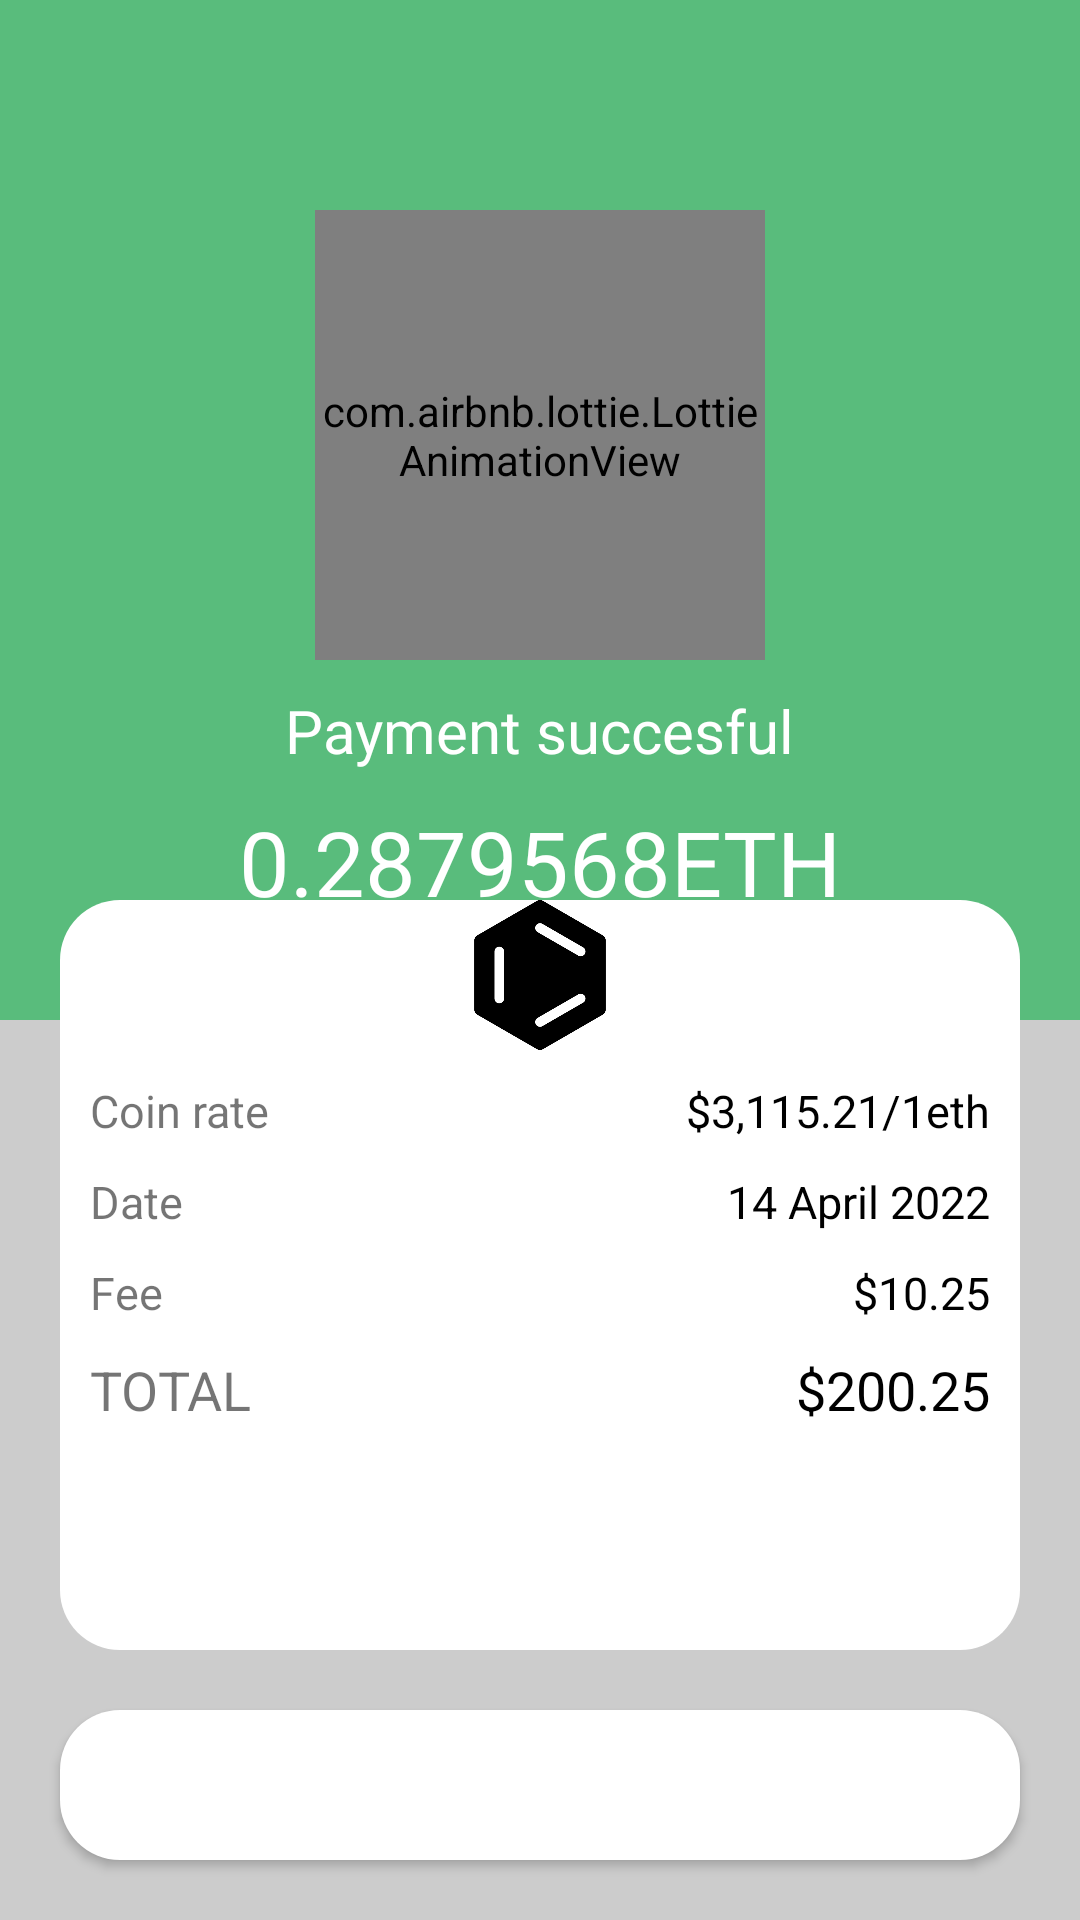

Point at icon controls on the screen. Image size 1080x1920, points as (x=x, y=y).
benzene: (x=540, y=975)
